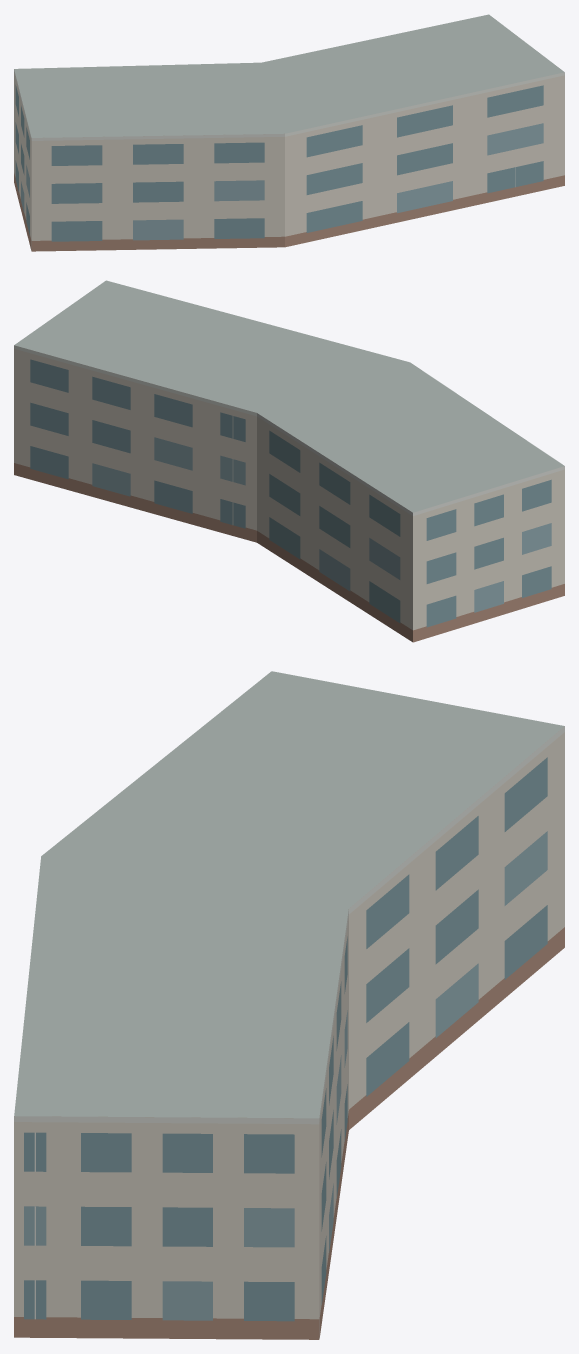
File: survey-upis-32940256.glb
The picture shows the model from 3 angles, top to bottom: view 1: azimuth 30°, elevation 25°; view 2: azimuth 150°, elevation 25°; view 3: azimuth 270°, elevation 25°; orthographic projection. The views are drawn at different scales.
Parts seen in each view (by area): view 1: survey-upis-32940256.tmp; view 2: survey-upis-32940256.tmp; view 3: survey-upis-32940256.tmp.
Part boxes in pixels (<box>): survey-upis-32940256.tmp: <box>14,14,564,251</box>; survey-upis-32940256.tmp: <box>14,280,564,642</box>; survey-upis-32940256.tmp: <box>14,671,564,1339</box>.
Bounding box in the file's own units: 39.63 × 9.15 × 20.63.
